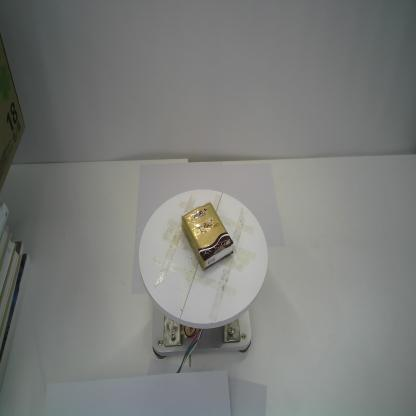Tissue: (180, 200, 234, 272)
